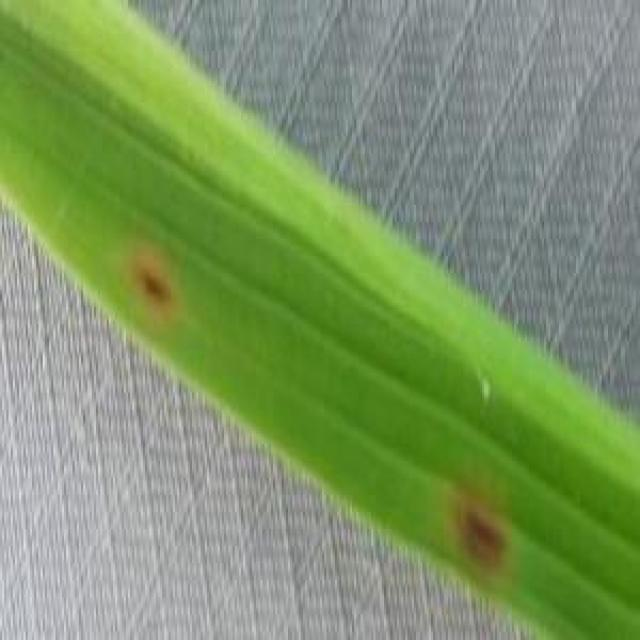Brown_Spot: (448, 477, 513, 576), (121, 258, 178, 312)
